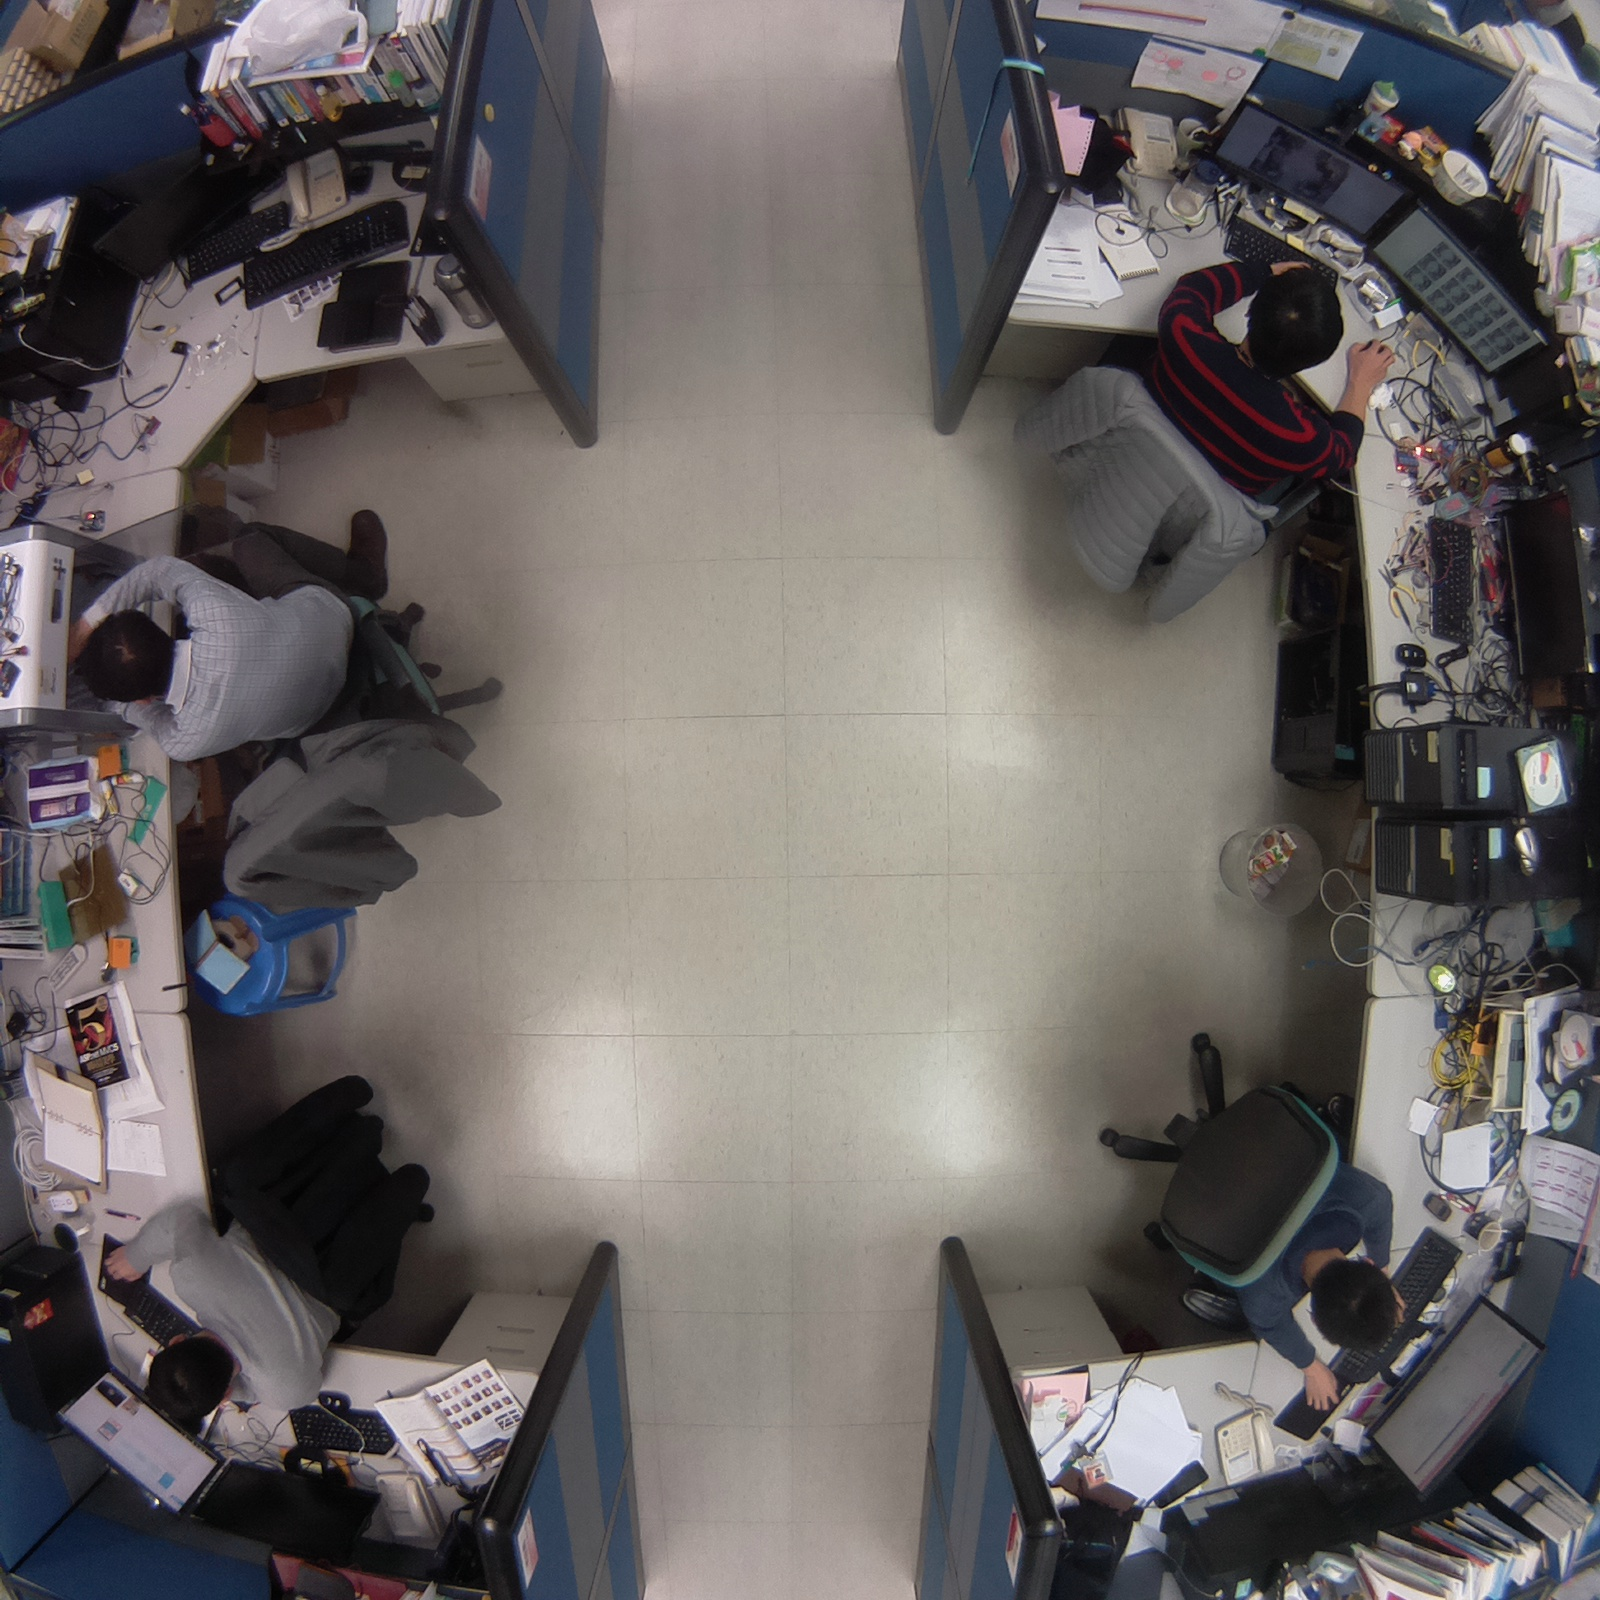head: (1234, 261, 1351, 378), (68, 602, 189, 712), (138, 1323, 244, 1431), (1302, 1251, 1406, 1357)
sitting: (65, 481, 553, 924), (986, 243, 1398, 647), (1091, 1014, 1424, 1422), (95, 1055, 453, 1426)
